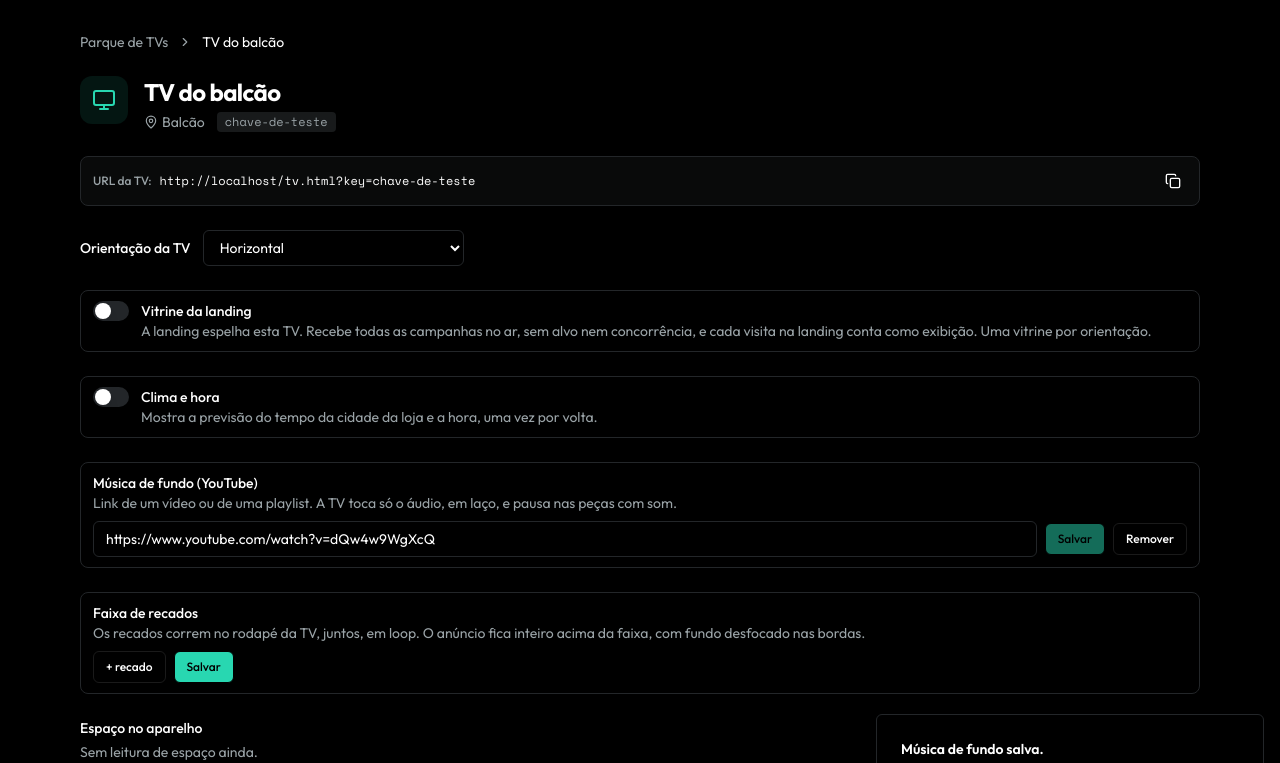
Test: música de fundo › mostra o link gravado e remover manda null
expect the field labelled "Música de fundo (YouTube)" holds "https://www.youtube.com/watch?v=dQw4w9WgXcQ": met, box [93,521,1037,557]
Click the button "Remover": click(1150, 539) [1113,523,1187,555]
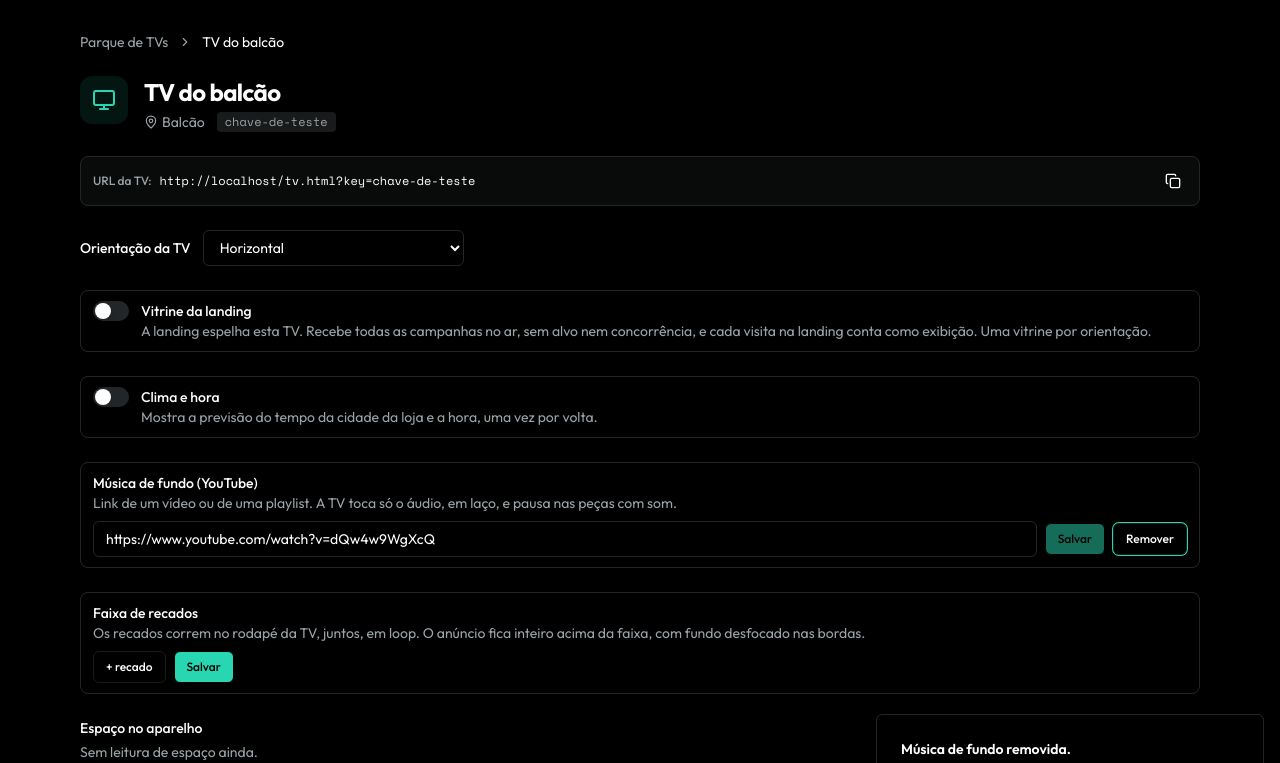
expect the text "Música de fundo removida." is shown: met, box [901,739,1071,759]
